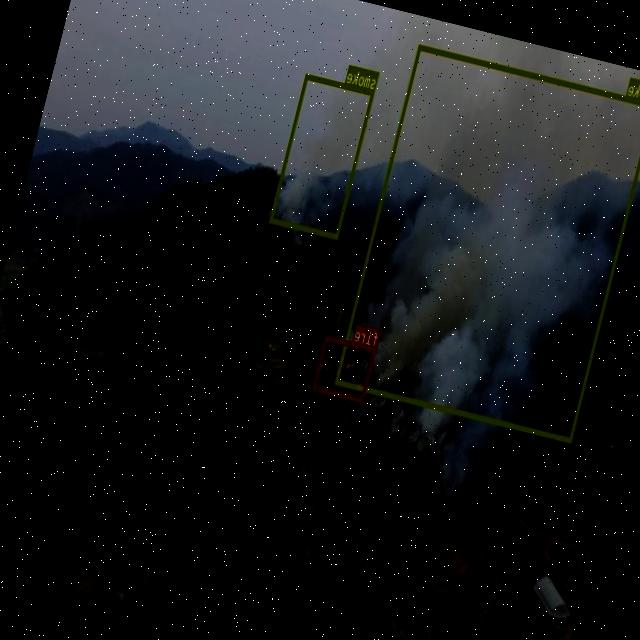fire: (312, 334, 378, 402)
smoke: (335, 43, 640, 442), (270, 73, 374, 238)
